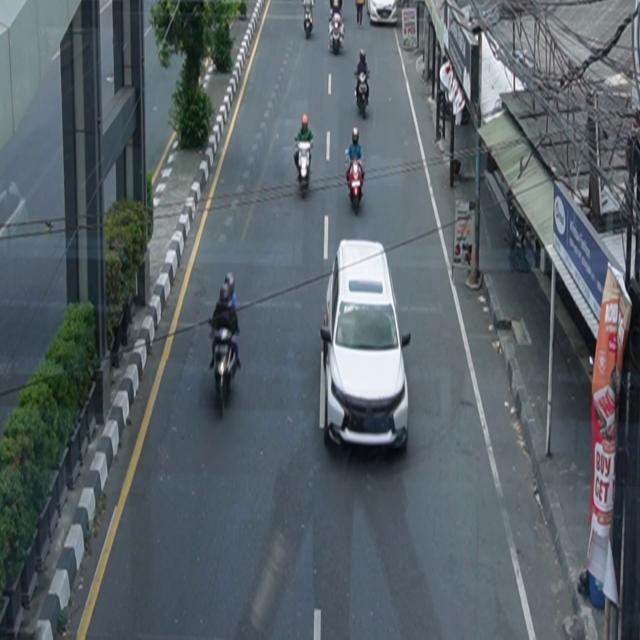car: (320, 240, 412, 455)
